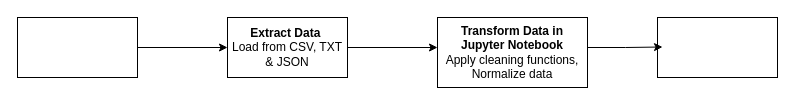
This 795x105 diagram has some shape labels left out. Here are the shapes that lost their labels. From the top down, the box of each, then its label:
(16, 16, 138, 78): AWS S3 Bucket
(656, 16, 778, 78): Load Data into SQL Database Insert into tables, Set up relationships
